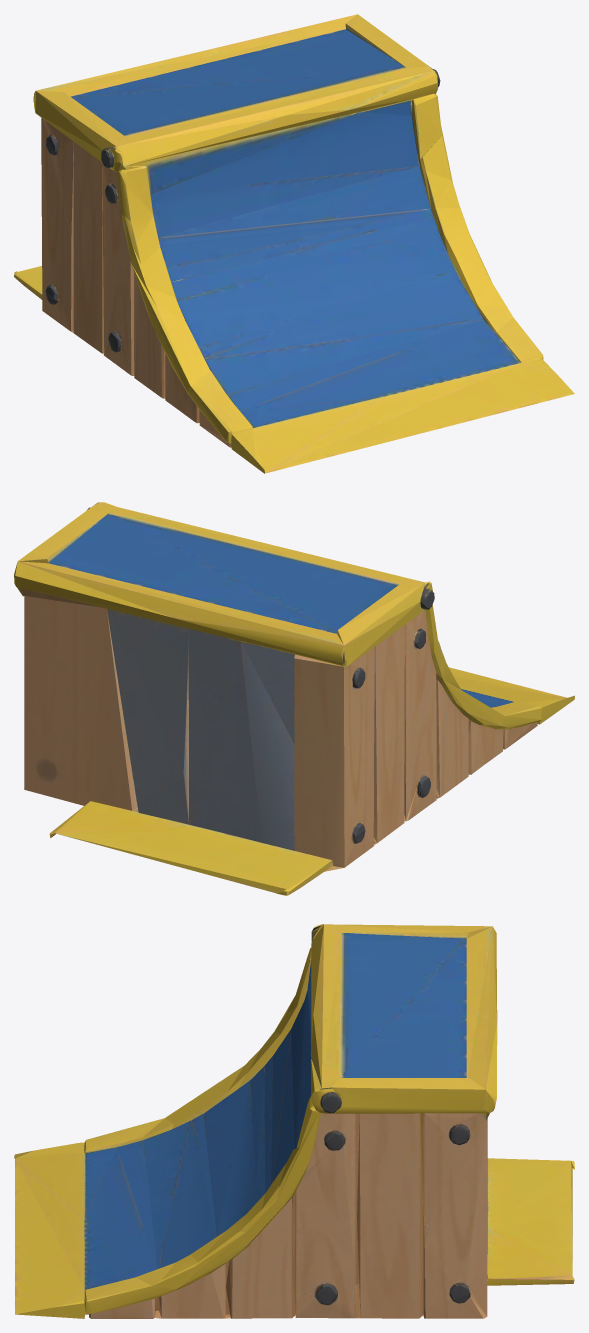
Rendered from skate_ramp.glb.
3 views of the same model, one above another, from view 1: azimuth 30°, elevation 25°; view 2: azimuth 150°, elevation 25°; view 3: azimuth 270°, elevation 25° (orthographic). The views are drawn at different scales.
Size of the model in its own units: 1.88 by 1.2 by 2.6.
Materials: 1 (1 with a texture image).
